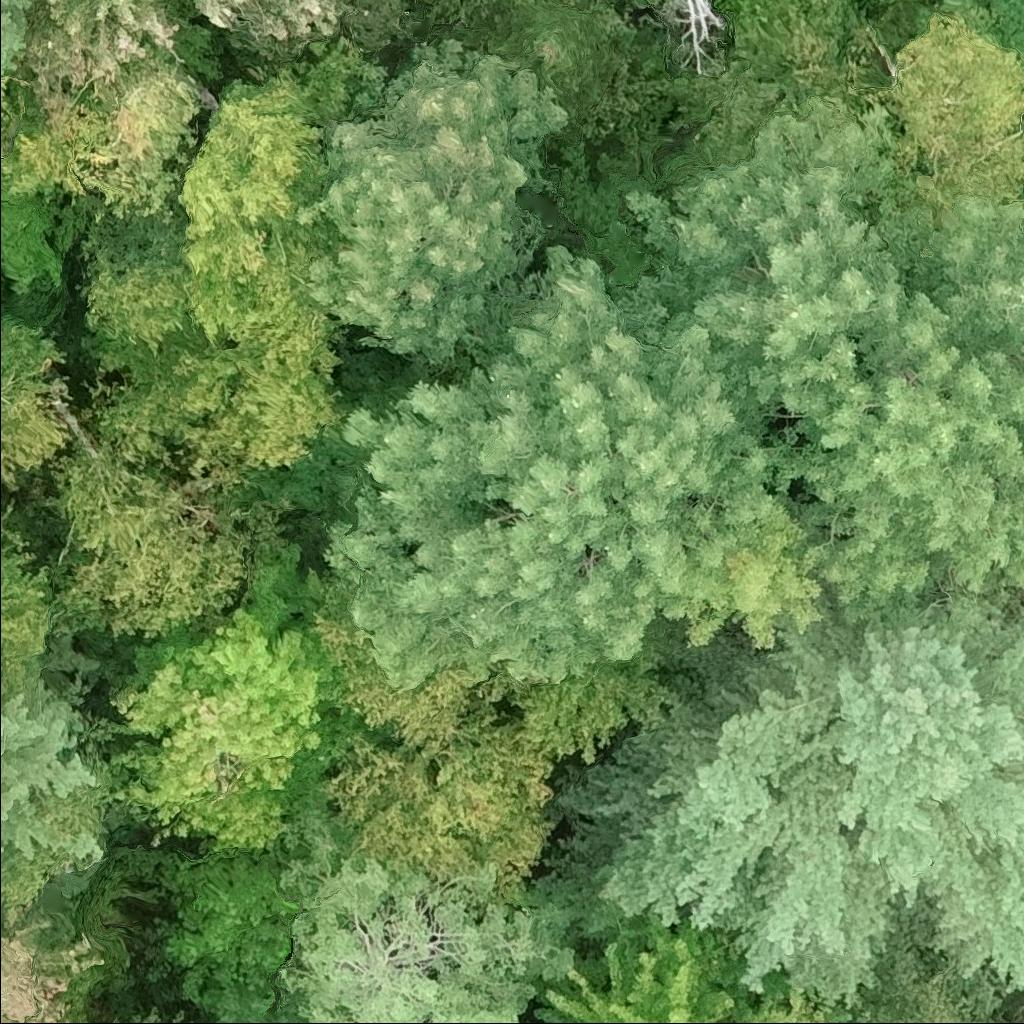crown: (322, 245, 847, 688), (628, 95, 1023, 631), (537, 611, 1023, 1014), (297, 34, 571, 376), (105, 541, 393, 856), (279, 812, 602, 1023), (311, 612, 557, 882), (80, 304, 357, 502), (48, 438, 292, 641), (174, 40, 385, 253), (0, 48, 212, 232), (661, 0, 895, 165), (535, 912, 852, 1023), (865, 8, 1023, 228), (163, 836, 299, 1023), (75, 217, 212, 383), (21, 0, 186, 127), (178, 226, 332, 350), (0, 674, 101, 860), (483, 0, 628, 129), (508, 664, 676, 763), (849, 931, 1008, 1023), (174, 0, 410, 57), (0, 902, 109, 1023), (0, 502, 59, 708), (0, 313, 70, 486), (802, 0, 891, 34), (0, 0, 38, 77), (976, 0, 1023, 46), (714, 0, 794, 22), (0, 73, 20, 151), (1021, 1013, 1023, 1023)
